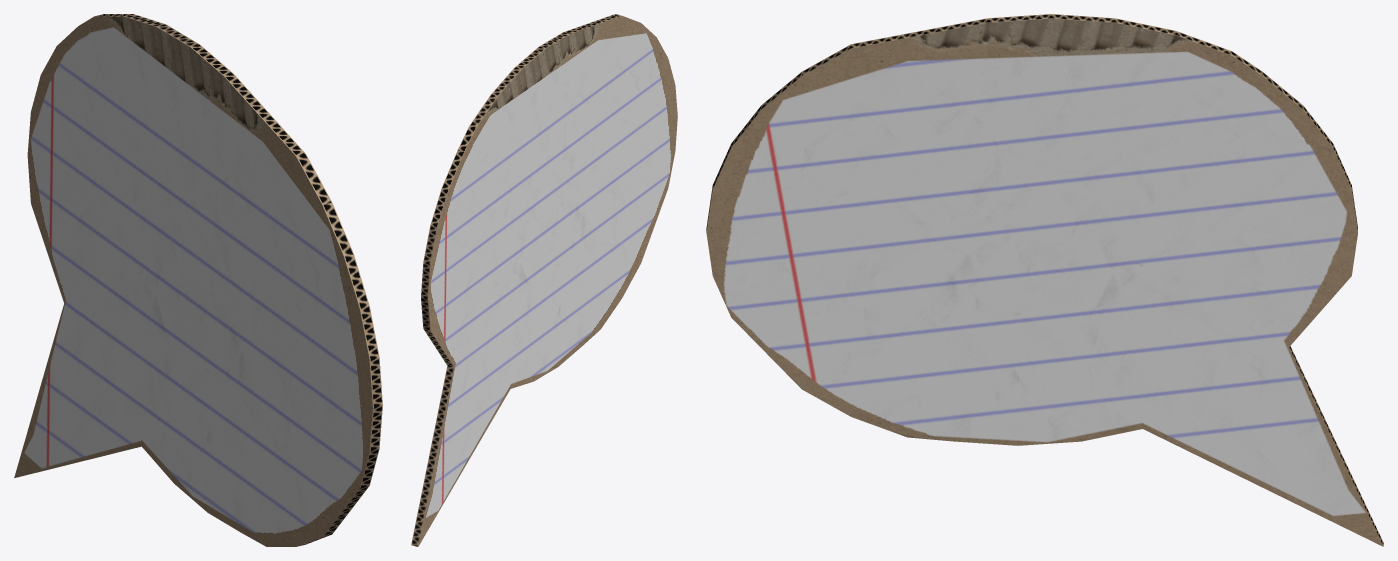
File: SpeechBubble.fbx
3 renders of one model, left to right at view 1: azimuth 30°, elevation 25°; view 2: azimuth 150°, elevation 25°; view 3: azimuth 270°, elevation 25°, orthographic. The views are drawn at different scales.
Parts seen in each view (by area): view 1: Cylinder; view 2: Cylinder; view 3: Cylinder.
Boxes of the visible parts, box(x1,y1,x2,y2) form: Cylinder: box(14, 14, 382, 546); Cylinder: box(411, 14, 677, 546); Cylinder: box(706, 14, 1383, 546).
Size of the model in its own units: 0.1 by 5.37 by 6.23.
